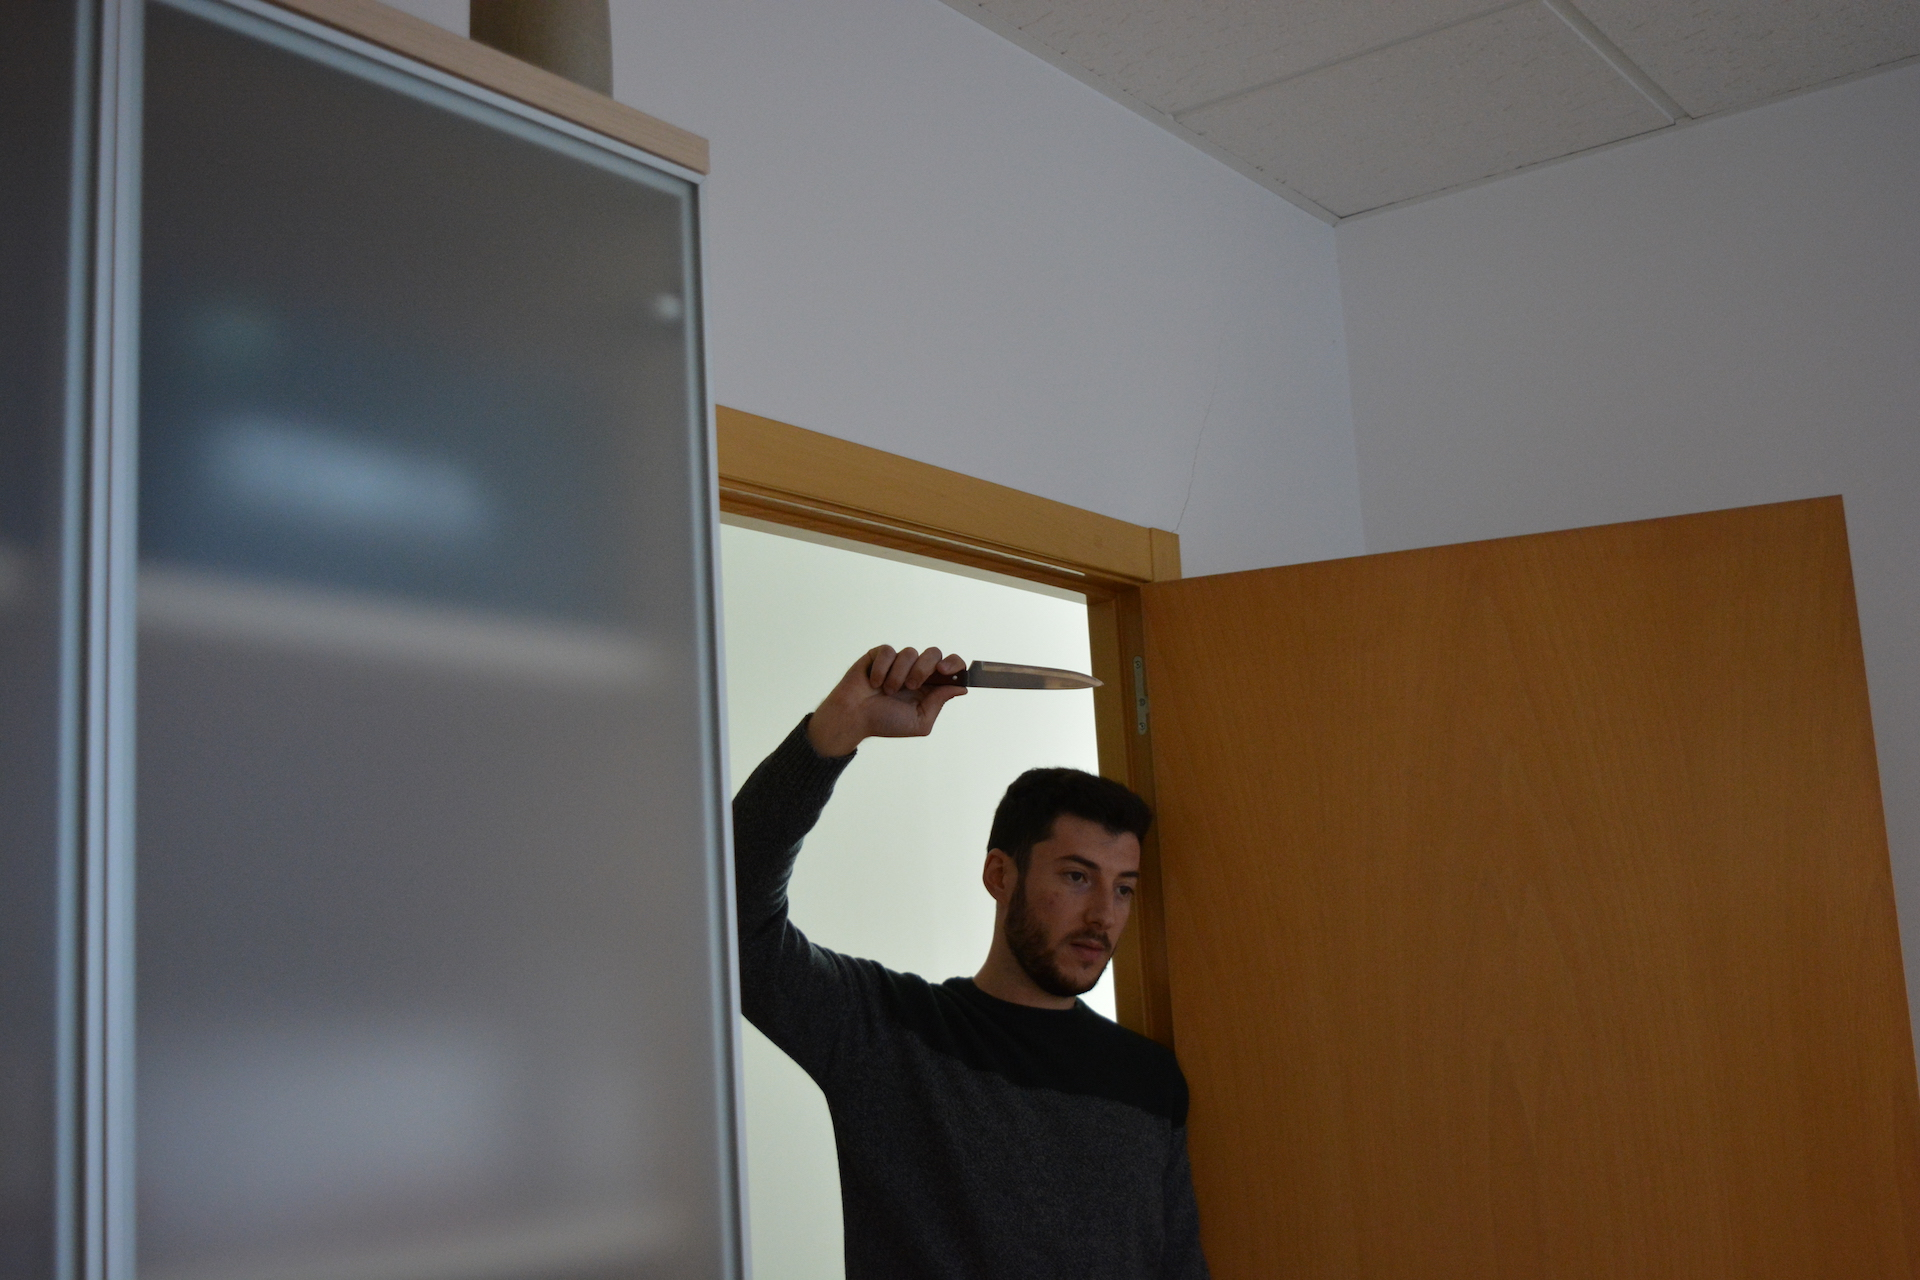knife: (861, 641, 1114, 699)
